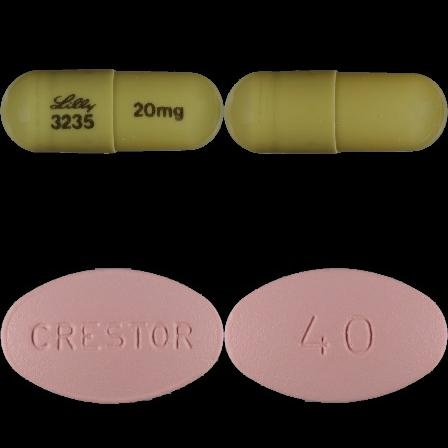21695-657: (0, 0, 224, 224)
